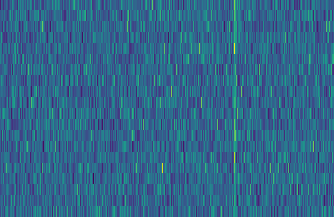signal: (231, 0, 240, 217)
